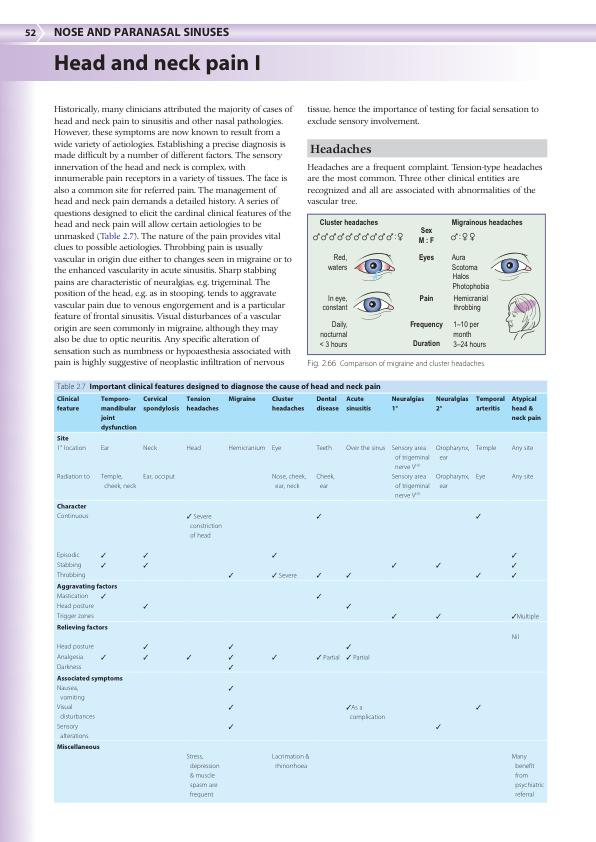caption: (56, 382, 382, 392), (307, 358, 485, 368)
chapter-heading: (53, 52, 262, 75)
header: (53, 26, 230, 37)
image: (306, 213, 546, 355)
section-heading: (310, 143, 372, 155)
table: (54, 393, 548, 803)
text: (53, 104, 294, 369), (306, 162, 545, 206), (306, 103, 541, 128)
